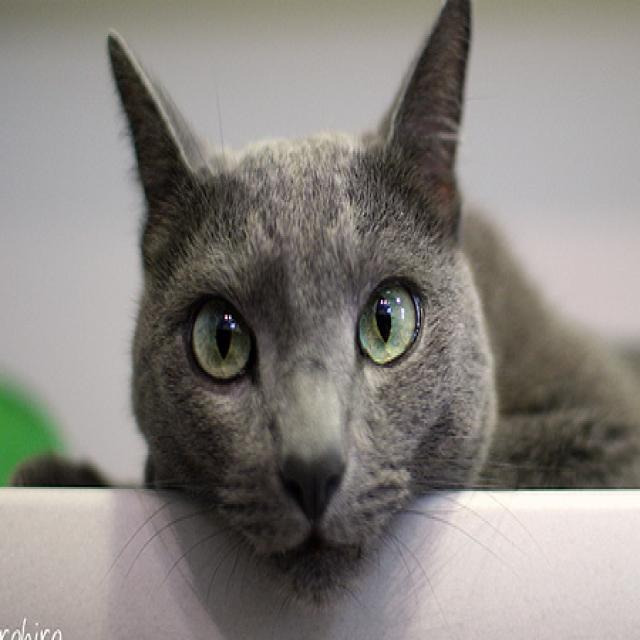Russian Blue: (102, 0, 640, 604)
